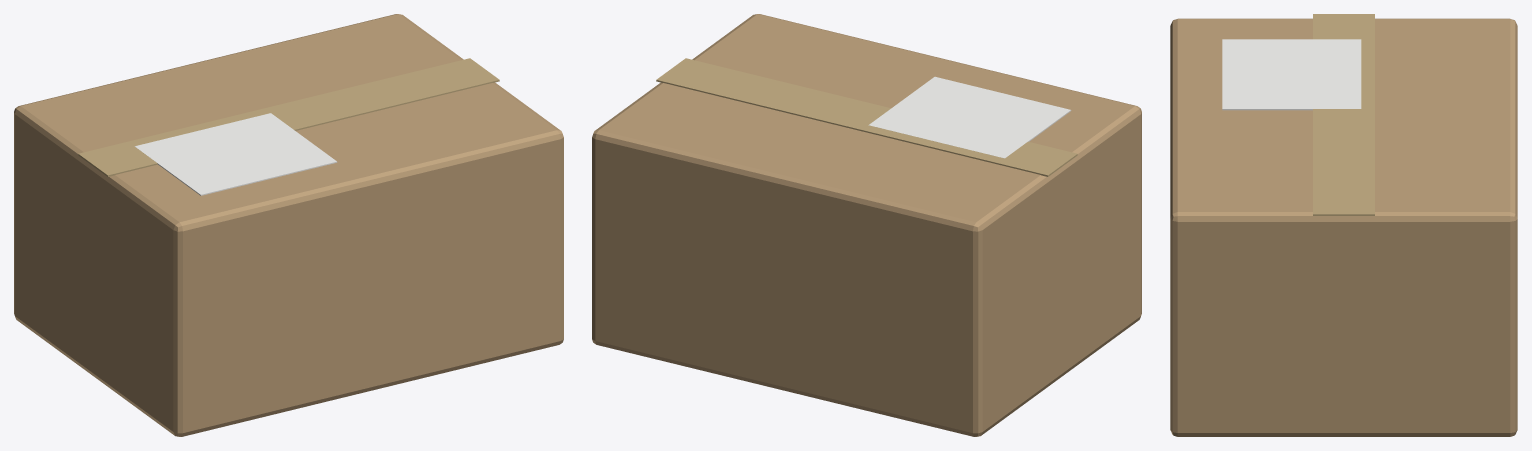
The model's file is libiao_parcel_box_m.fbx.
The picture shows the model from 3 angles, left to right: view 1: azimuth 30°, elevation 25°; view 2: azimuth 150°, elevation 25°; view 3: azimuth 270°, elevation 25°; orthographic projection. The views are drawn at different scales.
Parts seen in each view (by area): view 1: Parcel_box_m; view 2: Parcel_box_m; view 3: Parcel_box_m.
Part boxes in pixels (left/top/right/bottom): Parcel_box_m: left=14, top=14, right=563, bottom=436; Parcel_box_m: left=592, top=14, right=1141, bottom=436; Parcel_box_m: left=1170, top=14, right=1517, bottom=436.
Bounding box in the file's own units: 0.382 × 0.2013 × 0.28.
